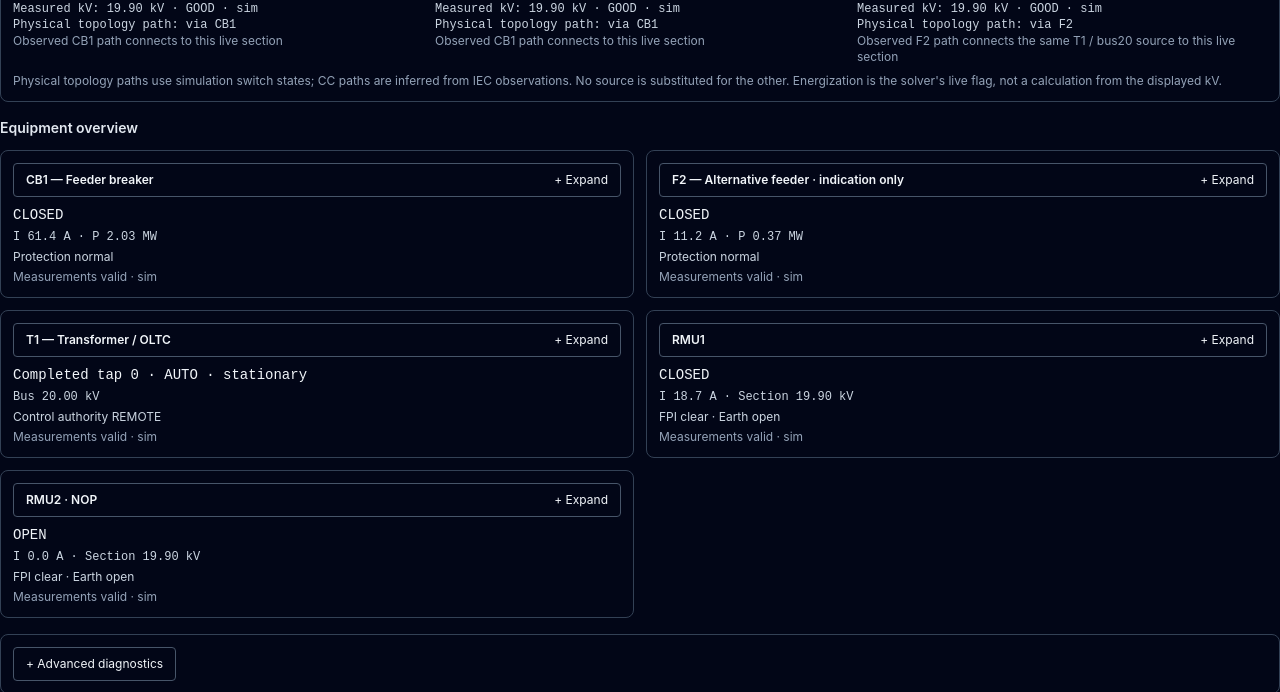
Test: Physical System presentation › renders the Physical System without a clock and declares its absence in Station time
(page scrolled)
Step 1. Click the button "+ Advanced diagnostics" → (95, 664), box x1=13 y1=647 x2=176 y2=681
(page scrolled)
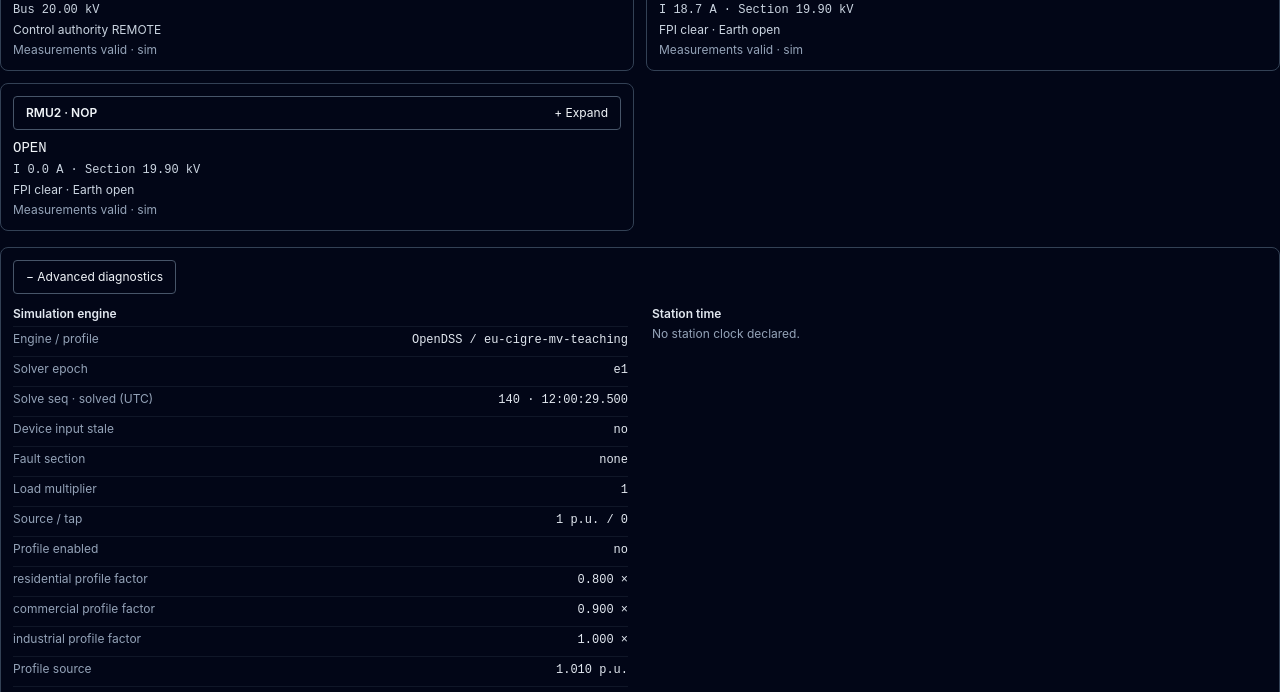
Expected: the text "No station clock declared." is shown, x1=652 y1=326 x2=800 y2=341
